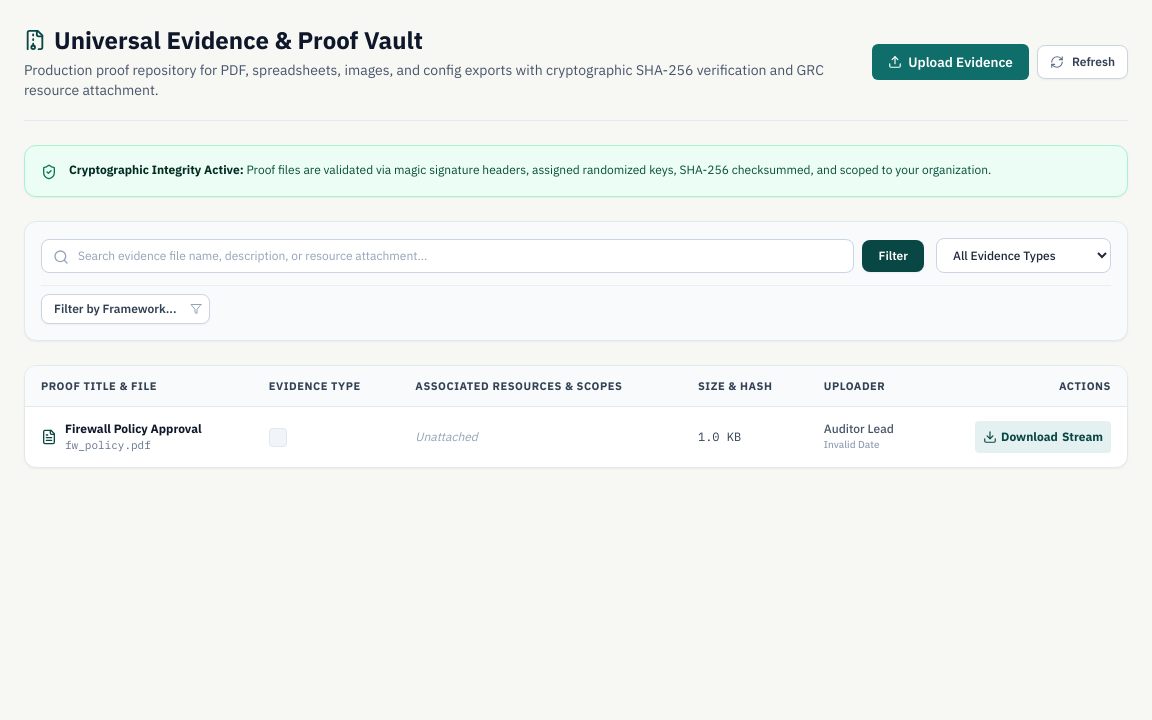
Scenario: Phase 1 Frontend UI: Evidence Resource Selector & Vendor Documents › EvidenceVaultView - Searchable Target Resource Selector › handles resource fetching error with error notification
This screenshot has width=1152, height=720.
expect the text "Firewall Policy Approval" is shown: met, box 65,421 -> 202,436
Click the button "Upload Evidence".
click(951, 62)  # box 872,44 -> 1029,80
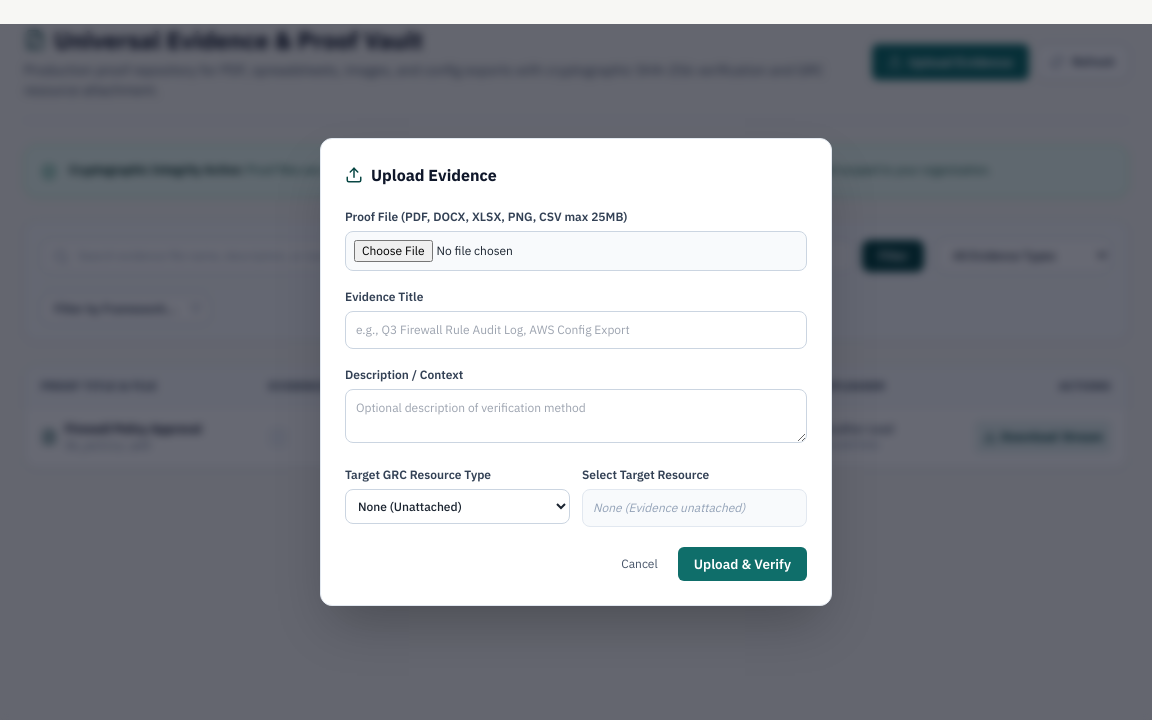
expect the text "Proof File (PDF, DOCX, XLSX, PNG, CSV max 25MB)" is shown: met, box 345,209 -> 627,224
Select "Policy" in the dropdown labelled "Target GRC Resource Type" at x=458, y=506, box 345,489 -> 570,524
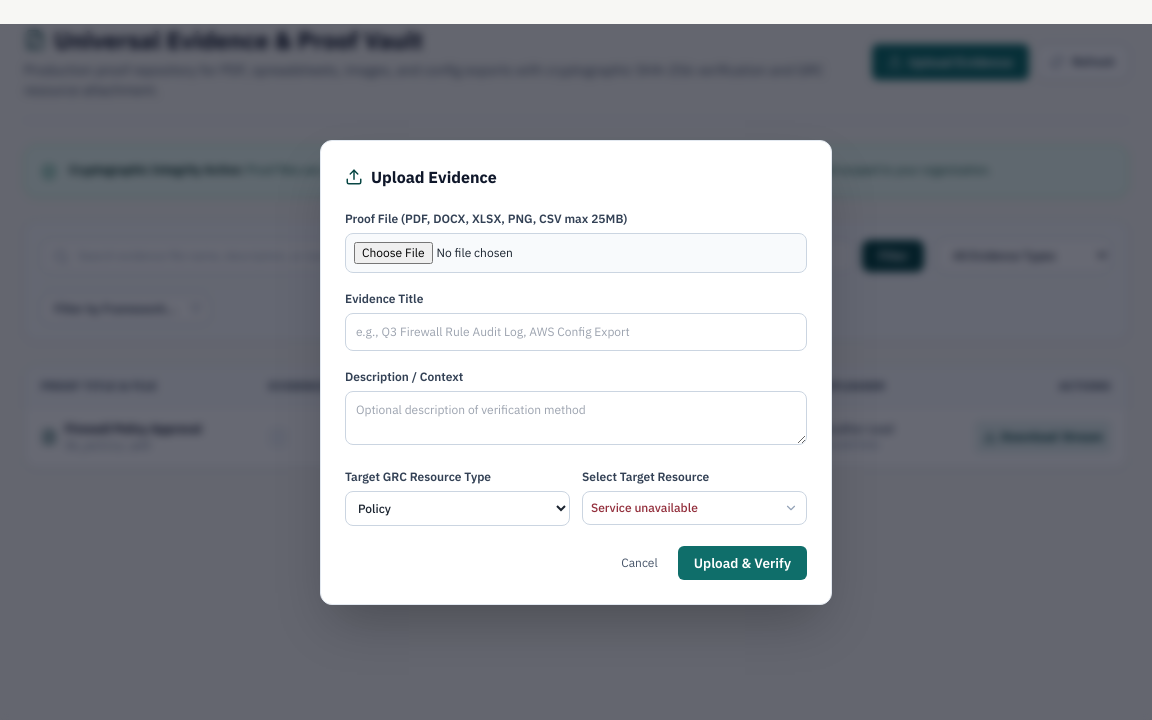
expect the text "Service unavailable" is shown: met, box 591,500 -> 698,516
